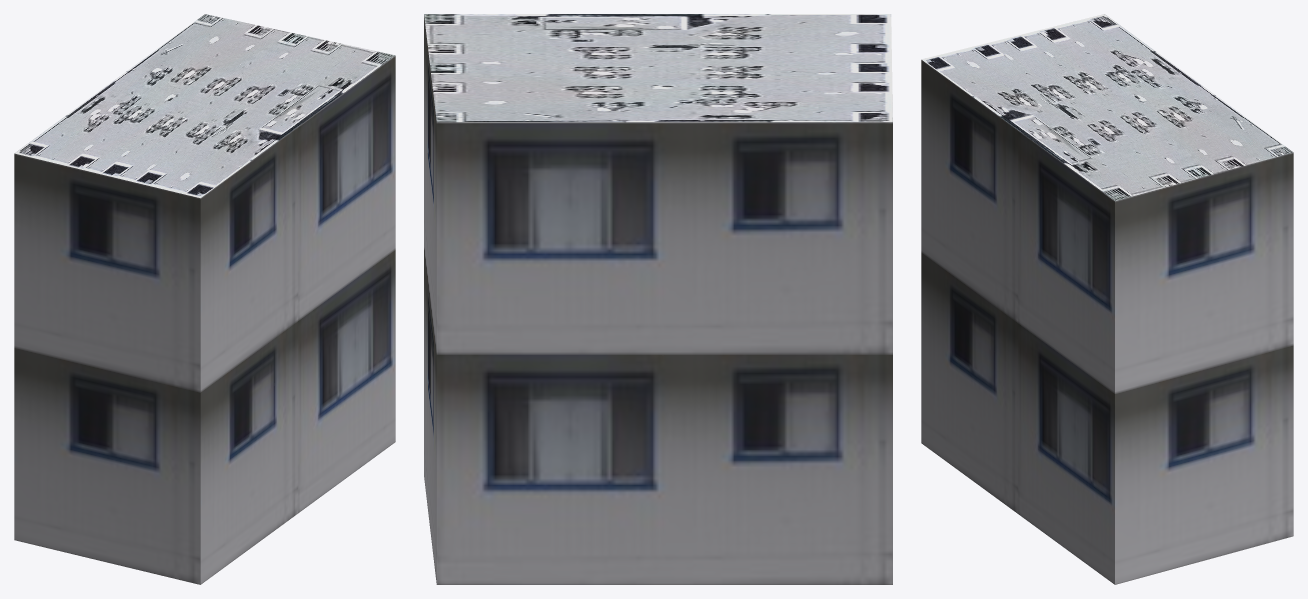
The model's file is ResTex__1497.fbx.
3 views of the same model, side by side, from view 1: azimuth 30°, elevation 25°; view 2: azimuth 150°, elevation 25°; view 3: azimuth 270°, elevation 25° (orthographic). The views are drawn at different scales.
Parts seen in each view (by area): view 1: CityEngineMaterial_9_m, CityEngineMaterial_m; view 2: CityEngineMaterial_9_m, CityEngineMaterial_m; view 3: CityEngineMaterial_9_m, CityEngineMaterial_m.
Part boxes in pixels (x1,y1,x2,y2): CityEngineMaterial_9_m: [14, 55, 395, 584]; CityEngineMaterial_m: [14, 14, 395, 198]; CityEngineMaterial_9_m: [424, 15, 892, 584]; CityEngineMaterial_m: [424, 14, 892, 122]; CityEngineMaterial_9_m: [921, 60, 1293, 584]; CityEngineMaterial_m: [921, 14, 1293, 200].
Size of the model in its own units: 6.28 by 6 by 5.28.
Materials: 2 (2 with a texture image).
